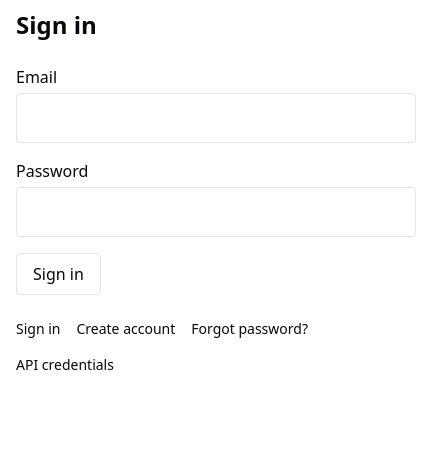
Test: reports rejected login without navigation or provider error leakage
In the field labelled "Email": (216, 118) [16,93,416,143], type "a@example.test"
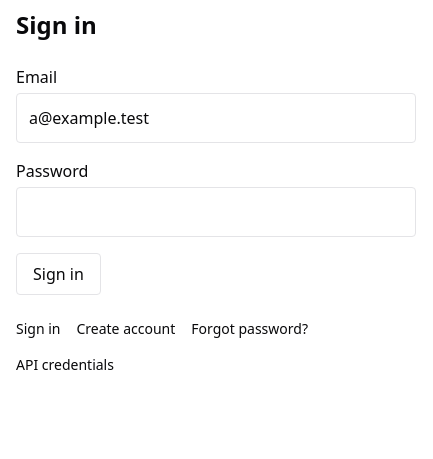
In the password field labelled "Password": (216, 212) [16,187,416,237], type "wrong-password"
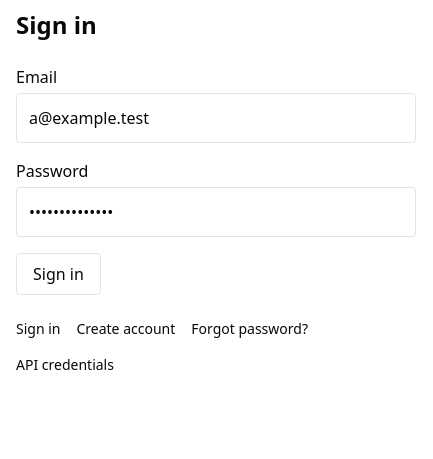
Click the button "Sign in": (58, 274) [16,253,101,295]
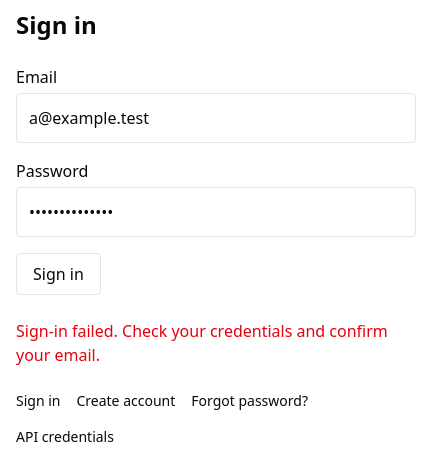
Expected: the message shows "Sign-in failed", [16,320,388,366]
